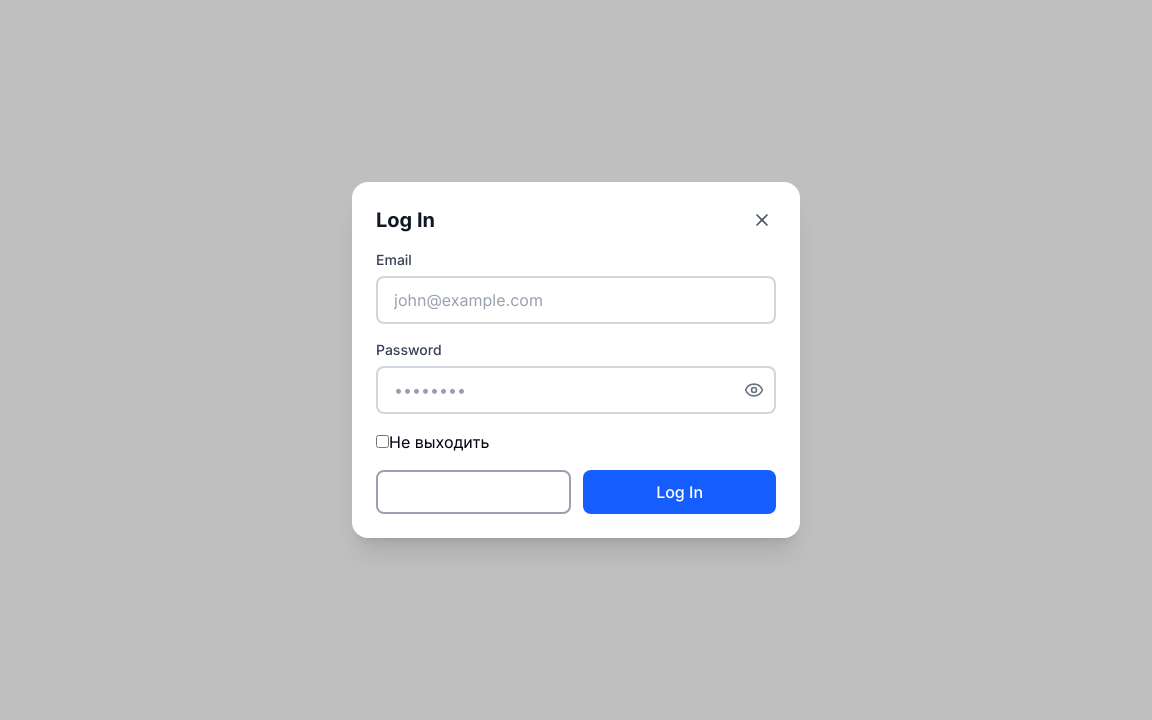
Test: LogInFormModal › should show error for email with consecutive dots
Type "user..name@example.com" into the field with placeholder "john@example.com".
click(576, 300); type("user..name@example.com")  # box [376,276,776,324]
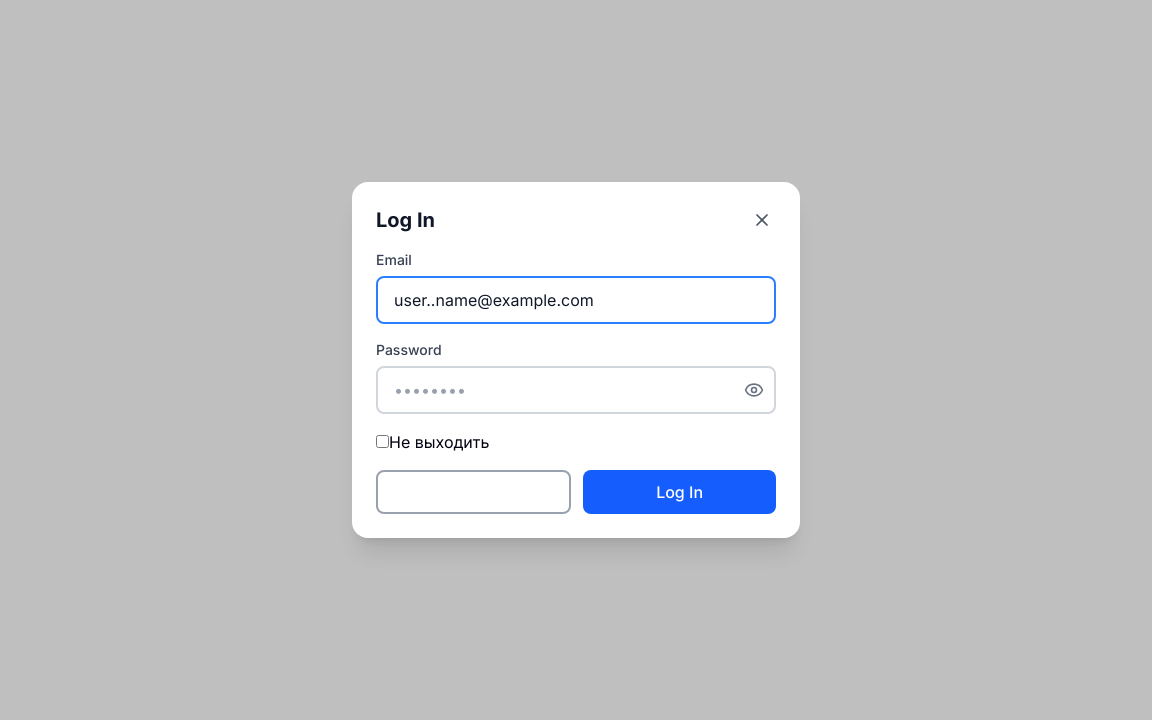
Submit the form, box [376,250,776,514]
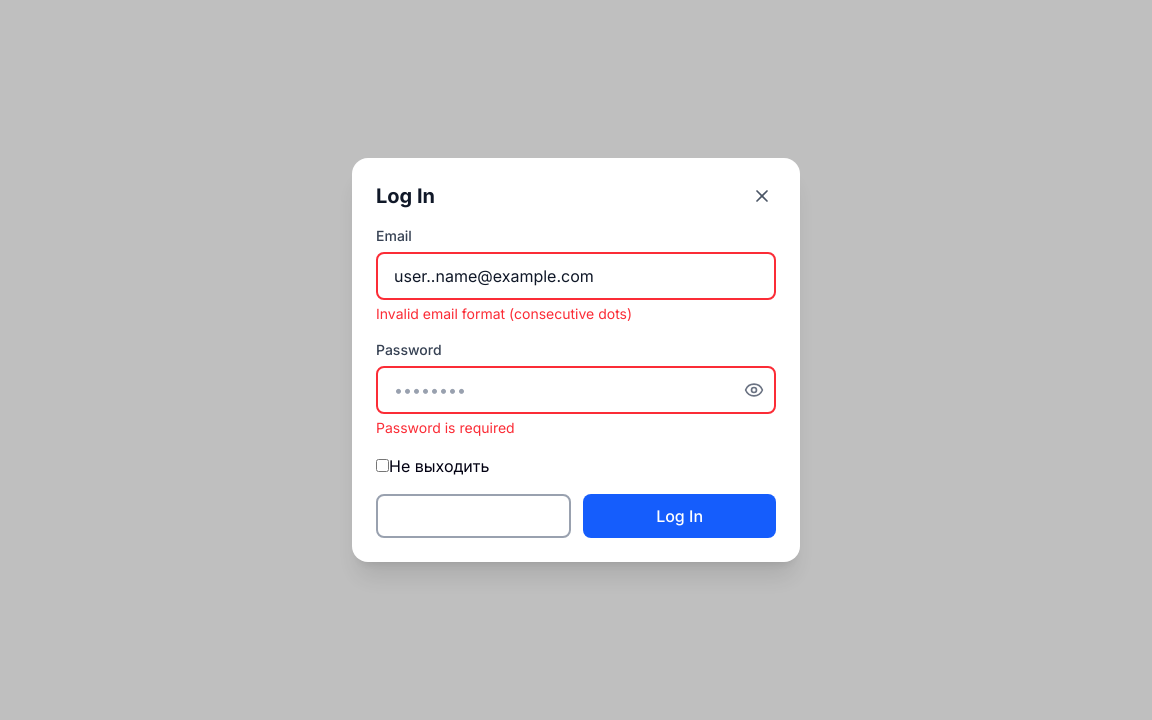
Expected: the text "Invalid email format (consecutive dots)" is shown, [376,305,632,322]
